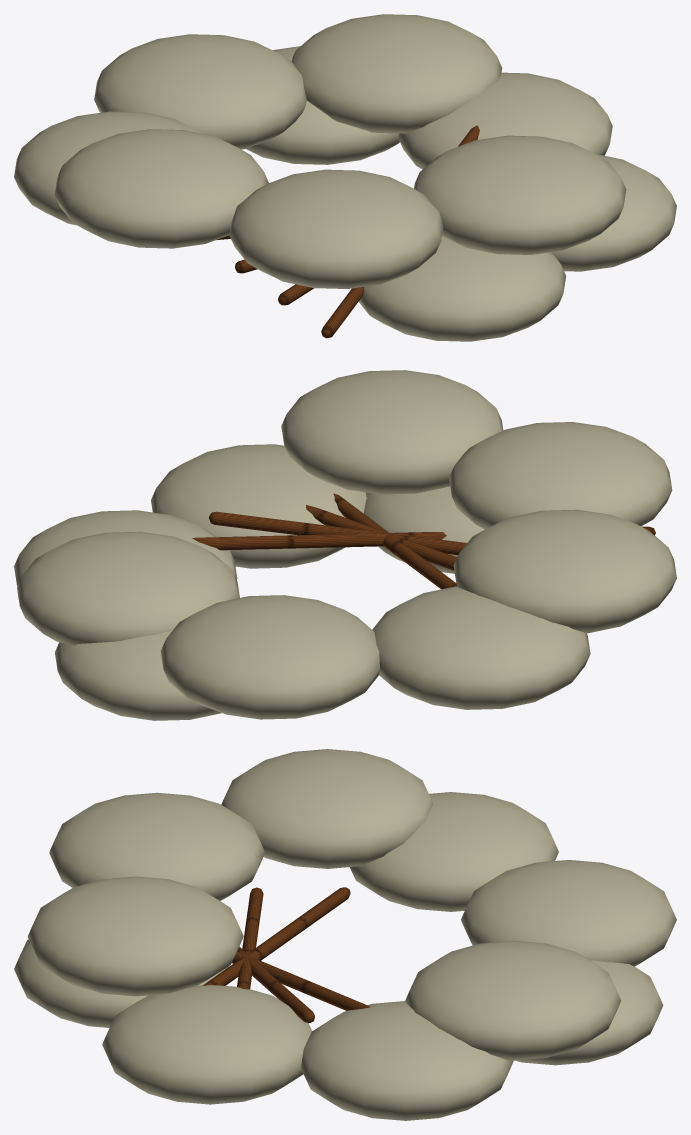
File: undercity-sewers-and-thieves-den-rat-nest-heap-97075121__25055.glb
The picture shows the model from 3 angles, top to bottom: view 1: azimuth 30°, elevation 25°; view 2: azimuth 150°, elevation 25°; view 3: azimuth 270°, elevation 25°; orthographic projection. The views are drawn at different scales.
Visible parts, largest first — view 1: rat-nest-heap; view 2: rat-nest-heap; view 3: rat-nest-heap.
Part boxes in pixels (x1,y1,x2,y2): rat-nest-heap: [14, 14, 676, 341]; rat-nest-heap: [14, 370, 676, 720]; rat-nest-heap: [14, 749, 676, 1120].
Size of the model in its own units: 0.7304 by 0.176 by 0.7362.
2 materials, 1 textured.
